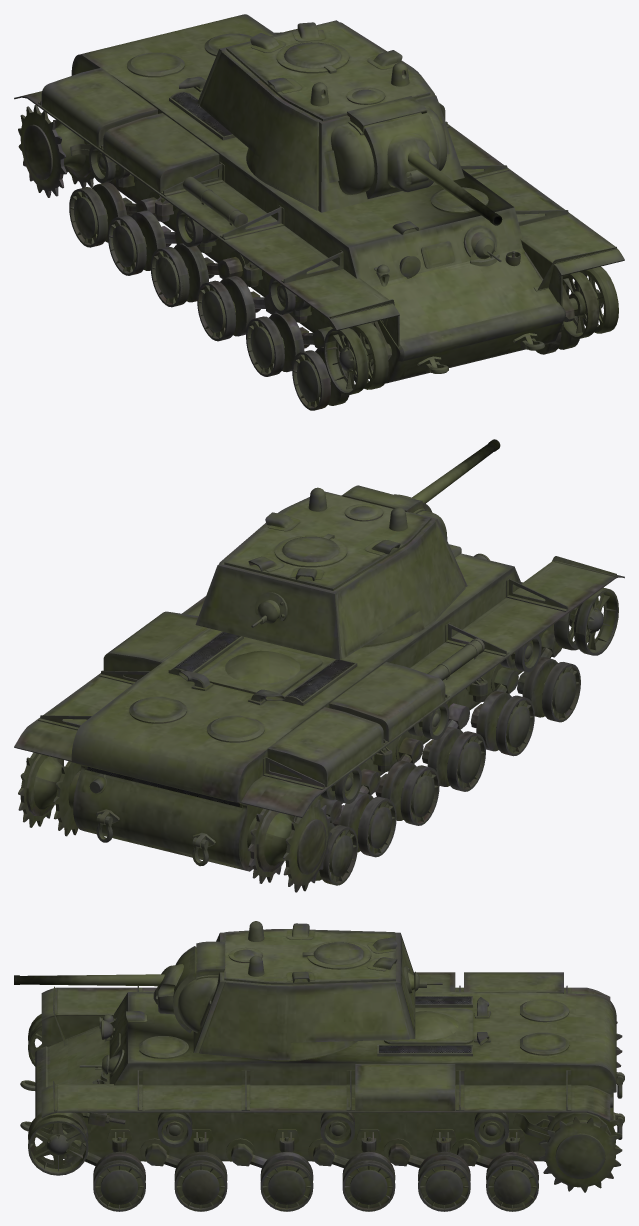
The picture shows the model from 3 angles, top to bottom: view 1: azimuth 30°, elevation 25°; view 2: azimuth 150°, elevation 25°; view 3: azimuth 270°, elevation 25°; orthographic projection. The views are drawn at different scales.
Visible parts, largest first — view 1: Wanne, turret, radL0, radL7, radR7, radL4, radL5, radL3, radL2, radL1, cannon, radL6 (+3 smaller); view 2: Wanne, turret, radL0, radR0, radL5, radL7, radL4, radL6, radL3, radL2, radL1, cannon (+3 smaller); view 3: Wanne, turret, radR0, radR7, radR2, radR3, radR1, radR6, radR4, radR5, cannon, rollR3 (+3 smaller).
Boxes of the visible parts, bbox=[...] form: Wanne: bbox=[14, 14, 624, 383]; turret: bbox=[197, 20, 464, 212]; radL0: bbox=[18, 105, 94, 197]; radL7: bbox=[323, 321, 404, 395]; radR7: bbox=[534, 266, 618, 338]; radL4: bbox=[197, 276, 260, 341]; radL5: bbox=[246, 313, 309, 376]; radL3: bbox=[150, 243, 214, 307]; radL2: bbox=[108, 206, 171, 275]; radL1: bbox=[69, 182, 132, 247]; cannon: bbox=[396, 139, 502, 225]; radL6: bbox=[292, 347, 349, 410]; Wanne: bbox=[14, 544, 624, 871]; turret: bbox=[195, 485, 467, 660]; radL0: bbox=[240, 799, 331, 892]; radR0: bbox=[18, 752, 87, 836]; radL5: bbox=[470, 691, 534, 756]; radL7: bbox=[544, 587, 618, 655]; radL4: bbox=[422, 726, 485, 791]; radL6: bbox=[517, 657, 580, 722]; radL3: bbox=[375, 760, 439, 825]; radL2: bbox=[333, 792, 396, 857]; radL1: bbox=[315, 822, 357, 885]; cannon: bbox=[401, 439, 500, 503]; Wanne: bbox=[20, 972, 624, 1167]; turret: bbox=[158, 921, 442, 1060]; radR0: bbox=[538, 1112, 622, 1192]; radR7: bbox=[28, 1112, 88, 1175]; radR2: bbox=[418, 1147, 470, 1211]; radR3: bbox=[342, 1151, 395, 1211]; radR1: bbox=[486, 1151, 538, 1211]; radR6: bbox=[93, 1151, 145, 1211]; radR4: bbox=[260, 1151, 313, 1211]; radR5: bbox=[174, 1152, 227, 1211]; cannon: bbox=[14, 966, 172, 1012]; rollR3: bbox=[157, 1112, 192, 1147].
Bounding box in the file's own units: 3.28 × 2.68 × 6.83.
1 material, 1 textured.
